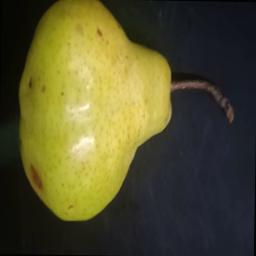Pear Unripe: (8, 0, 246, 226)
